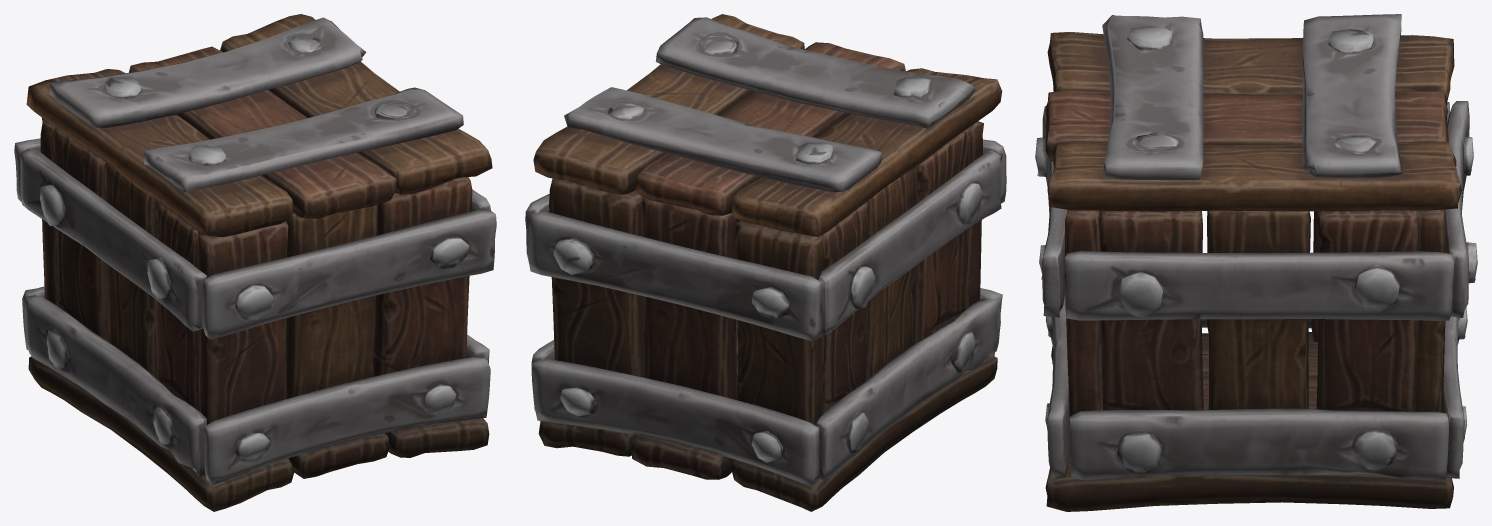
The model's file is box_stylized.glb.
3 renders of one model, left to right at view 1: azimuth 30°, elevation 25°; view 2: azimuth 150°, elevation 25°; view 3: azimuth 270°, elevation 25°, orthographic. The views are drawn at different scales.
Parts seen in each view (by area): view 1: Wood_Low, Metal_low, Bolt_Low; view 2: Wood_Low, Metal_low, Bolt_Low; view 3: Wood_Low, Metal_low, Bolt_Low.
Part boxes in pixels (x1,y1,x2,y2): Wood_Low: (26, 14, 492, 511); Metal_low: (14, 17, 496, 484); Bolt_Low: (40, 36, 469, 460); Wood_Low: (533, 14, 1002, 511); Metal_low: (525, 17, 1006, 486); Bolt_Low: (553, 40, 982, 462); Wood_Low: (1045, 32, 1461, 511); Metal_low: (1042, 14, 1469, 480); Bolt_Low: (1035, 26, 1477, 474).
Bounding box in the file's own units: 1.79 × 1.77 × 2.
Materials: 1 (1 with a texture image).
